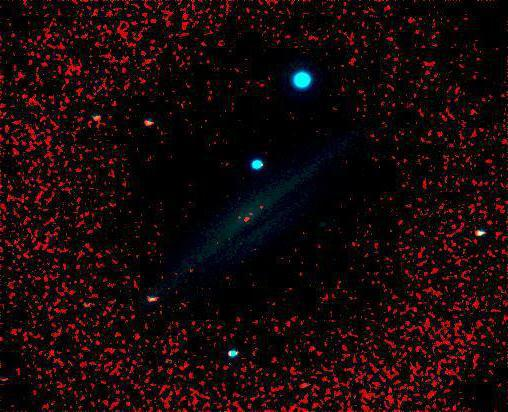star: (214, 230, 244, 260)
